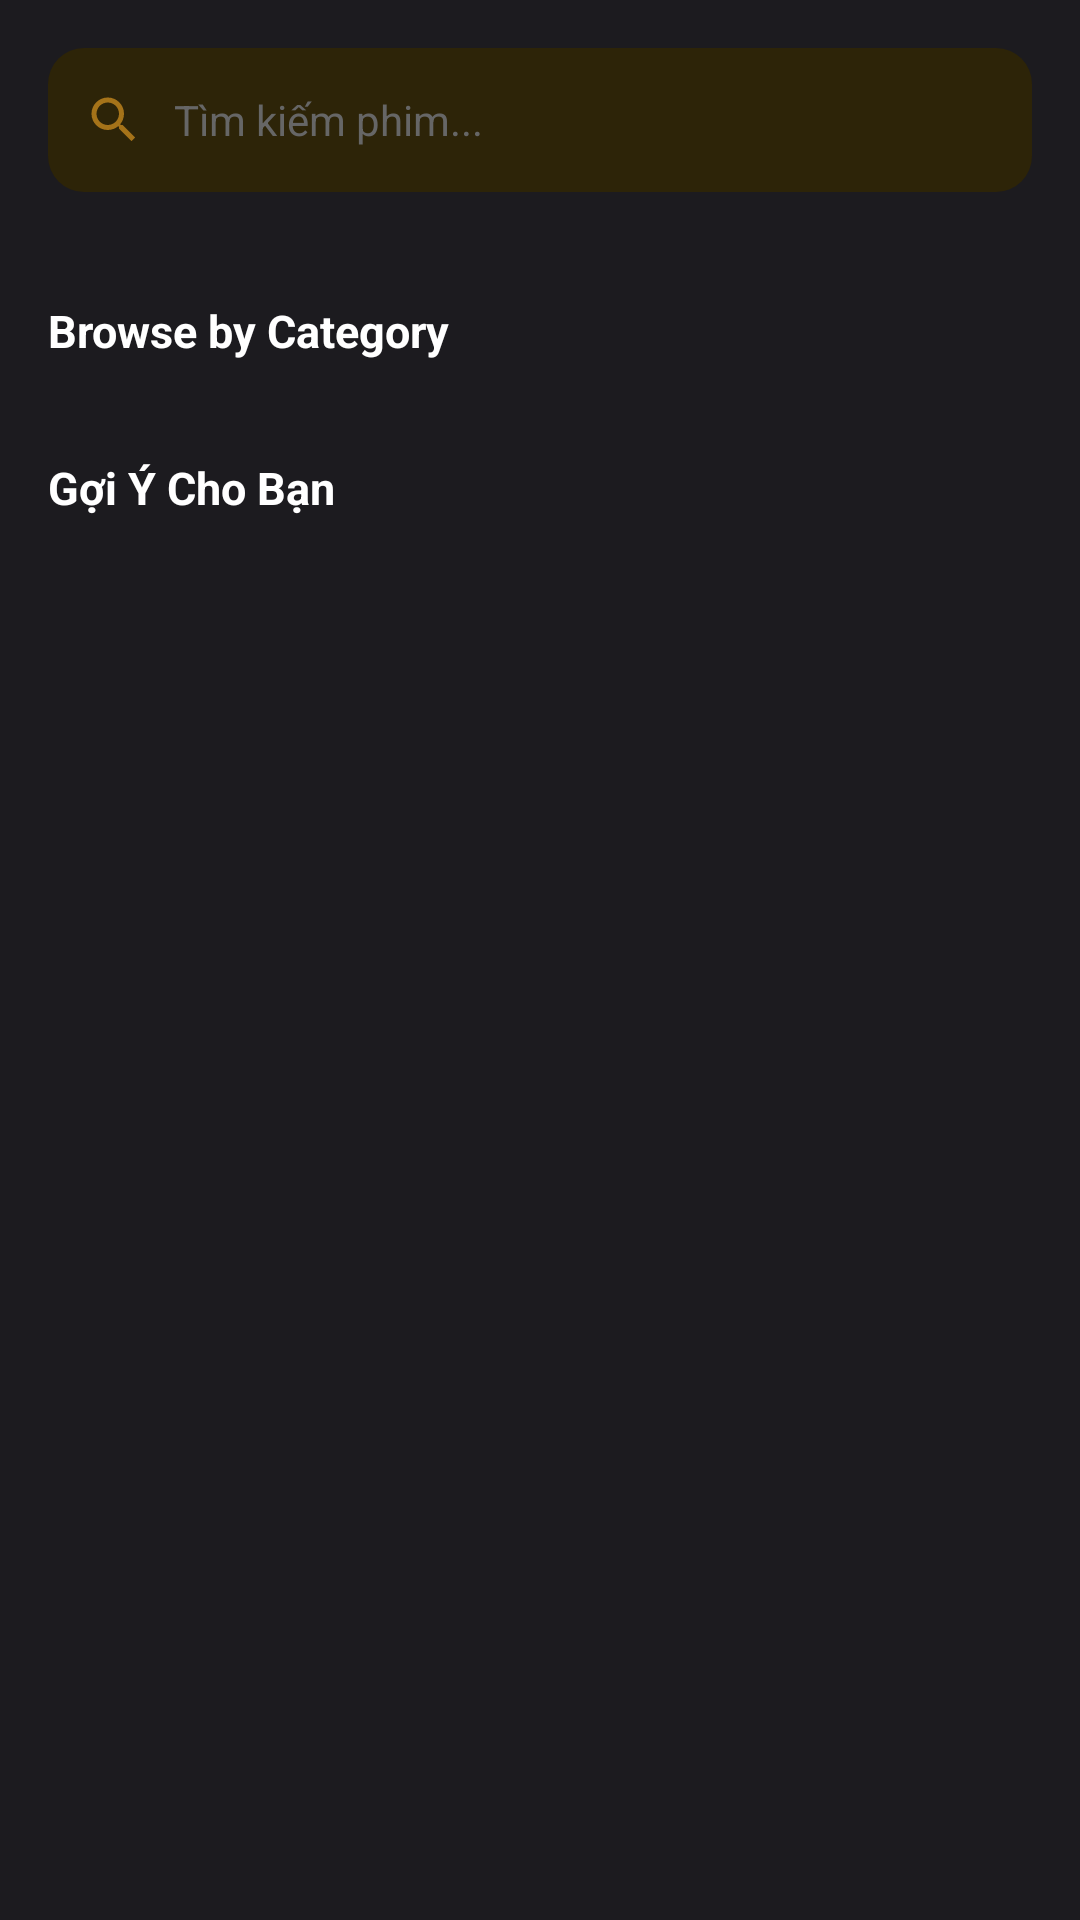

Screen size 1080 x 1920. Icon name, then its center in pixels as [x,y]:
search: [113,119]
